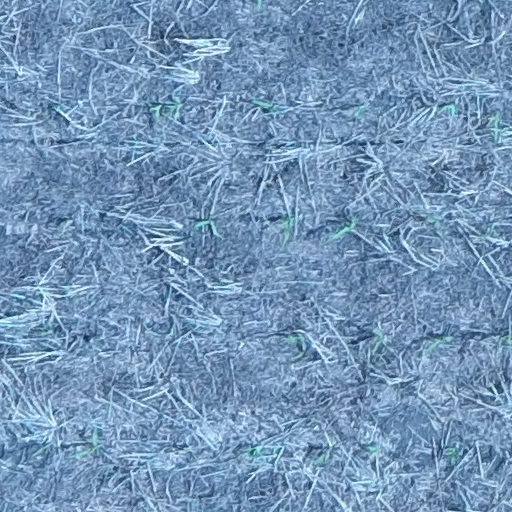planta: (324, 217, 358, 244), (75, 430, 101, 458), (486, 113, 503, 141), (285, 333, 306, 354), (427, 336, 450, 354), (280, 215, 295, 241), (371, 328, 386, 354), (193, 219, 219, 233), (253, 99, 278, 113), (312, 451, 332, 468), (244, 446, 263, 460), (437, 103, 457, 114), (446, 447, 457, 463)
